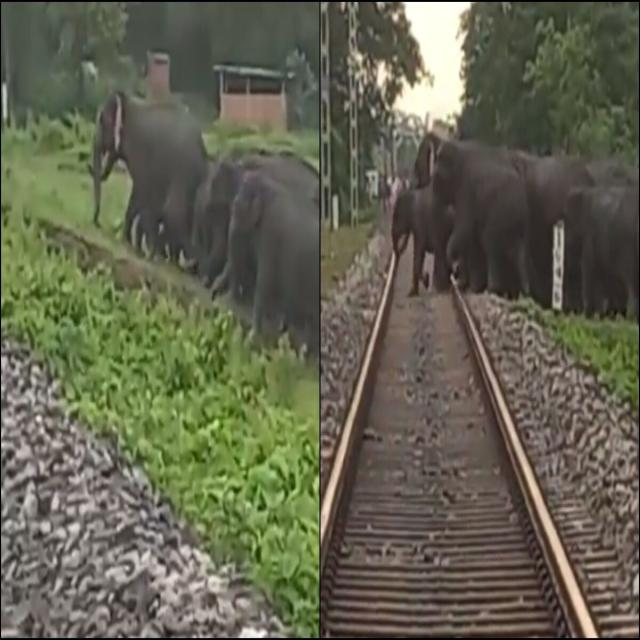Elephant: (85, 74, 204, 278), (420, 118, 540, 312), (230, 162, 327, 369), (568, 172, 640, 316), (388, 177, 458, 289)
